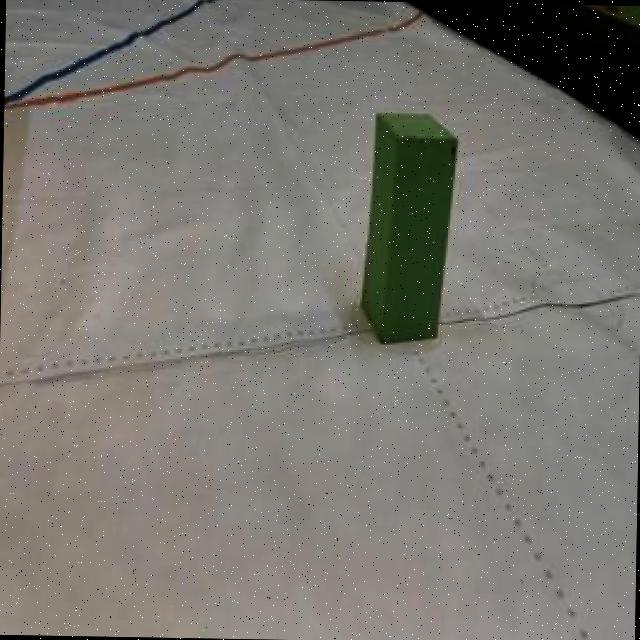greenbox: (363, 113, 458, 342)
